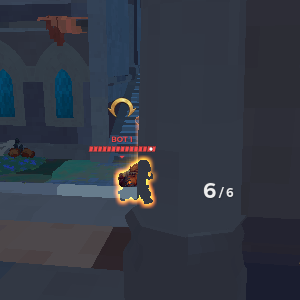model: (116, 158, 161, 214)
